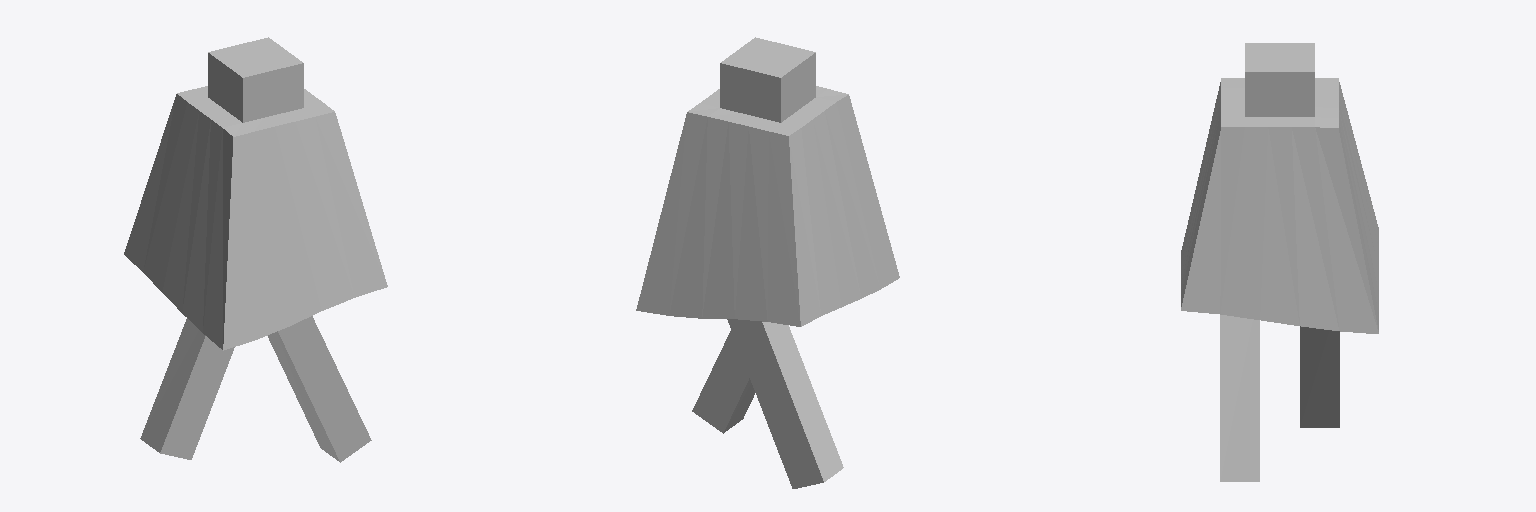
Rendered from essai_000012.obj.
The picture shows the model from 3 angles: view 1: azimuth 30°, elevation 25°; view 2: azimuth 150°, elevation 25°; view 3: azimuth 270°, elevation 25°; orthographic projection.
Visible parts, largest first — view 1: Cube; view 2: Cube; view 3: Cube.
Part boxes in pixels (bbox=[...]): Cube: bbox=[124, 37, 387, 462]; Cube: bbox=[636, 37, 899, 488]; Cube: bbox=[1181, 43, 1378, 481].
Bounding box in the file's own units: 2 × 4.41 × 2.